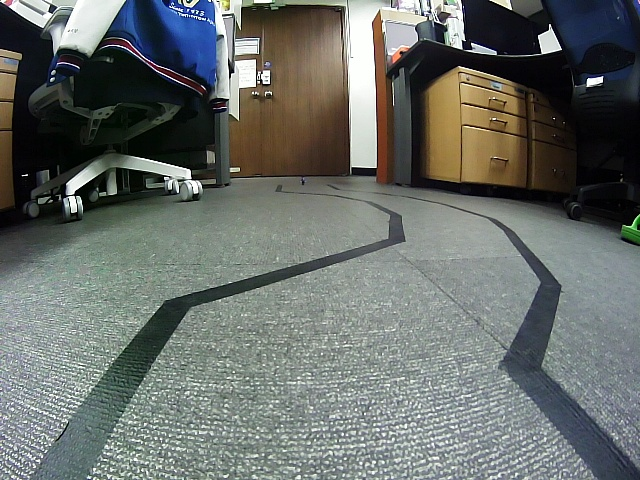person: (300, 176, 306, 186)
